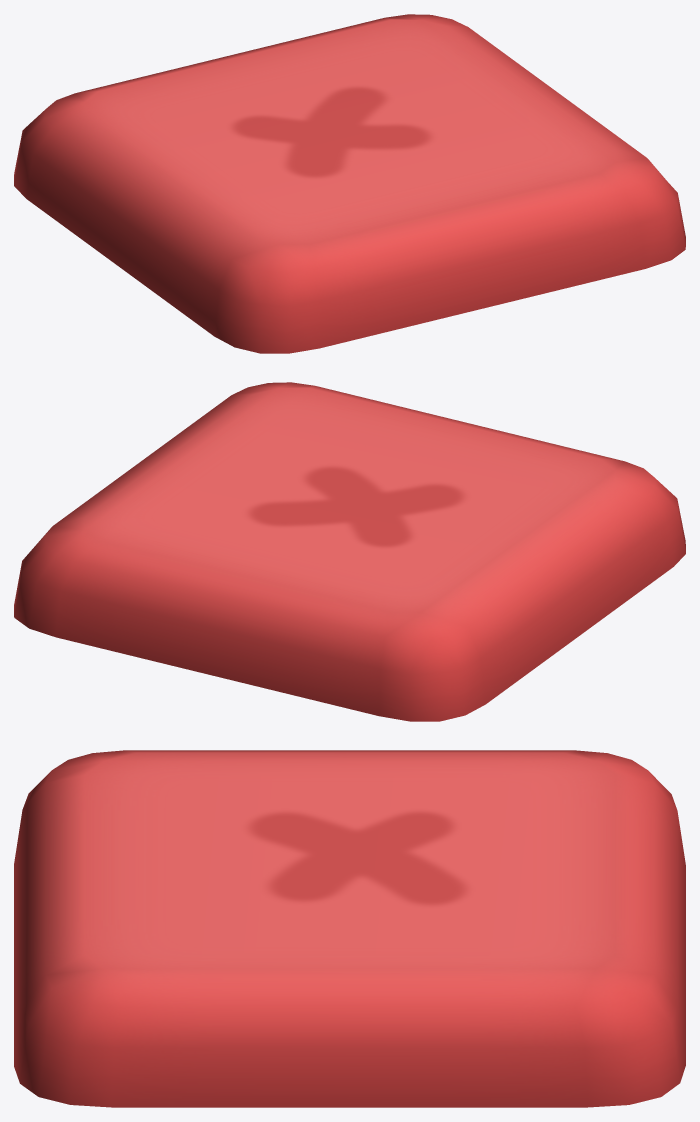
File: ChoppedChair.fbx
3 views of the same model, one above another, from view 1: azimuth 30°, elevation 25°; view 2: azimuth 150°, elevation 25°; view 3: azimuth 270°, elevation 25° (orthographic). The views are drawn at different scales.
Parts seen in each view (by area): view 1: Mu_TinyChair.001; view 2: Mu_TinyChair.001; view 3: Mu_TinyChair.001.
Boxes of the visible parts, x1=… form: Mu_TinyChair.001: x1=14, y1=14, x2=685, y2=353; Mu_TinyChair.001: x1=14, y1=382, x2=685, y2=721; Mu_TinyChair.001: x1=14, y1=750, x2=685, y2=1107.
Bounding box in the file's own units: 83.58 × 13.8 × 83.58.
